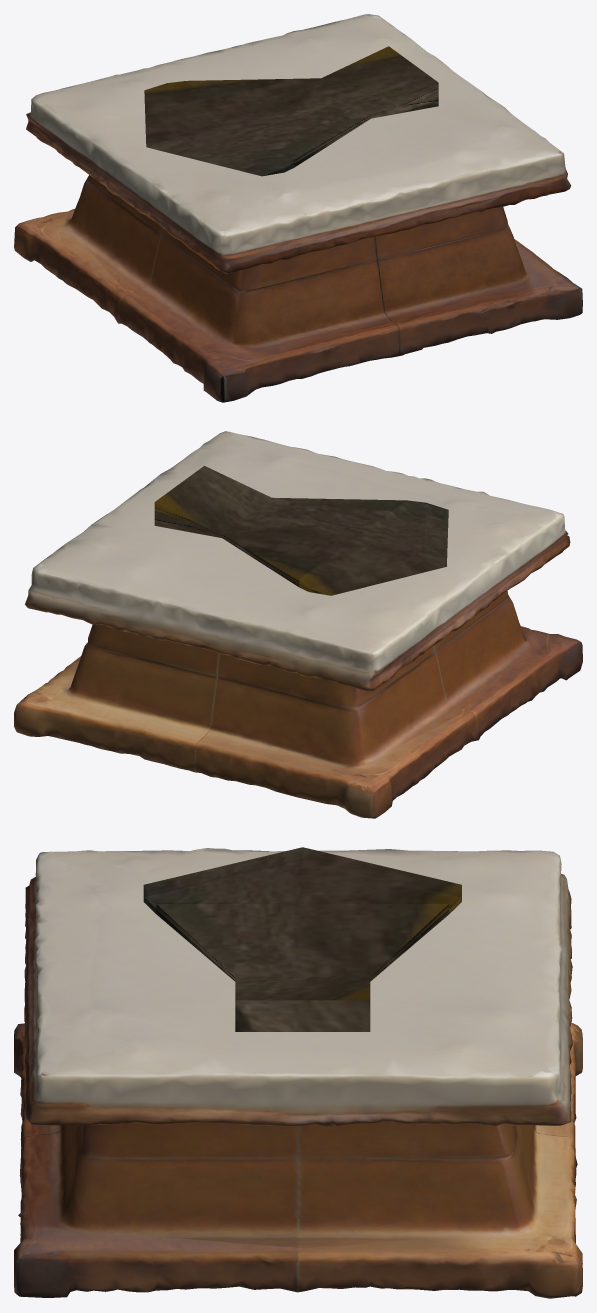
File: benda15.glb
3 renders of one model, top to bottom at view 1: azimuth 30°, elevation 25°; view 2: azimuth 150°, elevation 25°; view 3: azimuth 270°, elevation 25°, orthographic. The views are drawn at different scales.
Parts seen in each view (by area): view 1: Mesh_0, Cube; view 2: Mesh_0, Cube; view 3: Mesh_0, Cube.
Boxes of the visible parts, x1,y1,x2,y2 form: Mesh_0: [14, 14, 582, 402]; Cube: [144, 46, 438, 176]; Mesh_0: [14, 431, 582, 818]; Cube: [154, 466, 448, 595]; Mesh_0: [14, 848, 582, 1298]; Cube: [143, 847, 461, 1031].
Bounding box in the file's own units: 2 × 0.9999 × 2.
2 materials, 2 textured.
